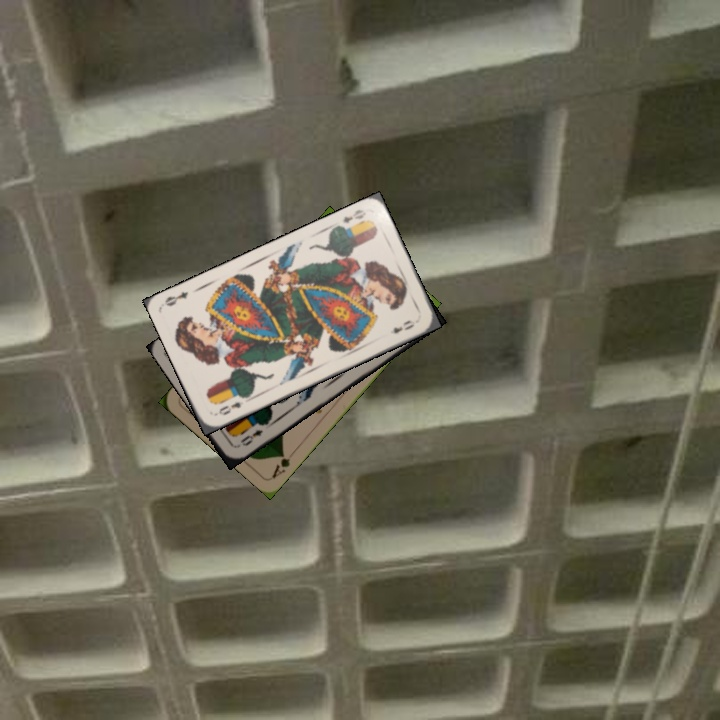EO: (214, 392, 249, 418), (236, 425, 266, 449), (339, 205, 369, 226)
GA: (268, 449, 293, 481)
